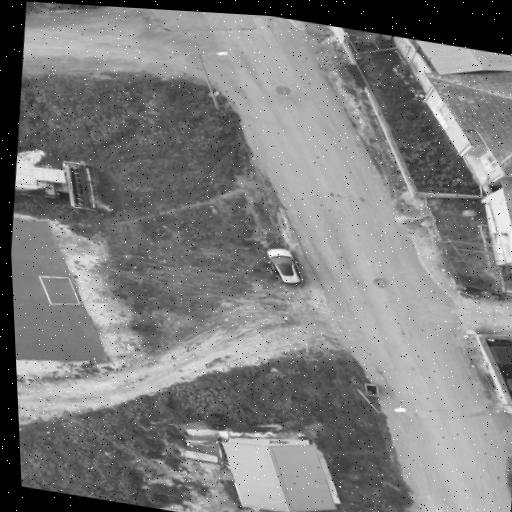car: (267, 248, 303, 286)
harvester: (15, 161, 101, 210)
